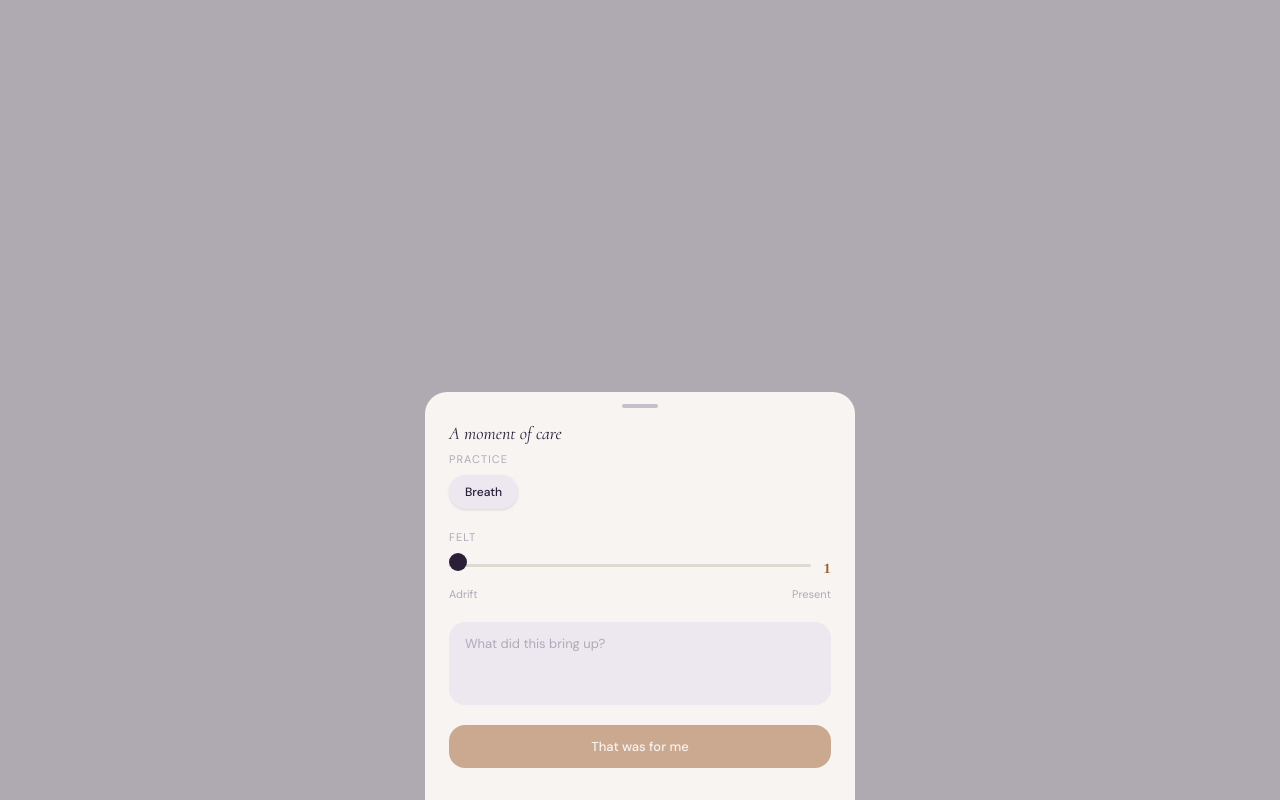
Test: SelfLoveLogger › enables submit after selecting a practice
Click the button "Breath": x=484, y=492 [449,475,518,509]
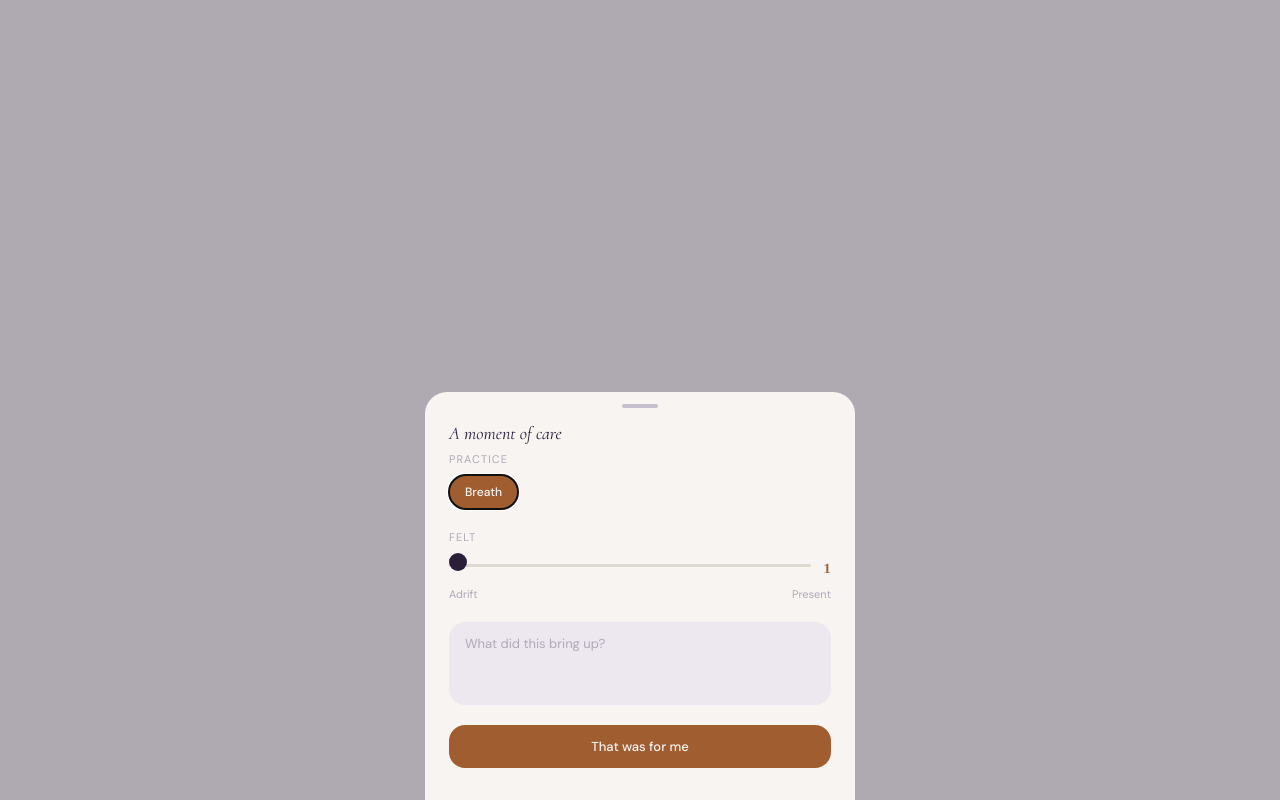
Result: the button "That was for me" is enabled at [449,724,831,768]
